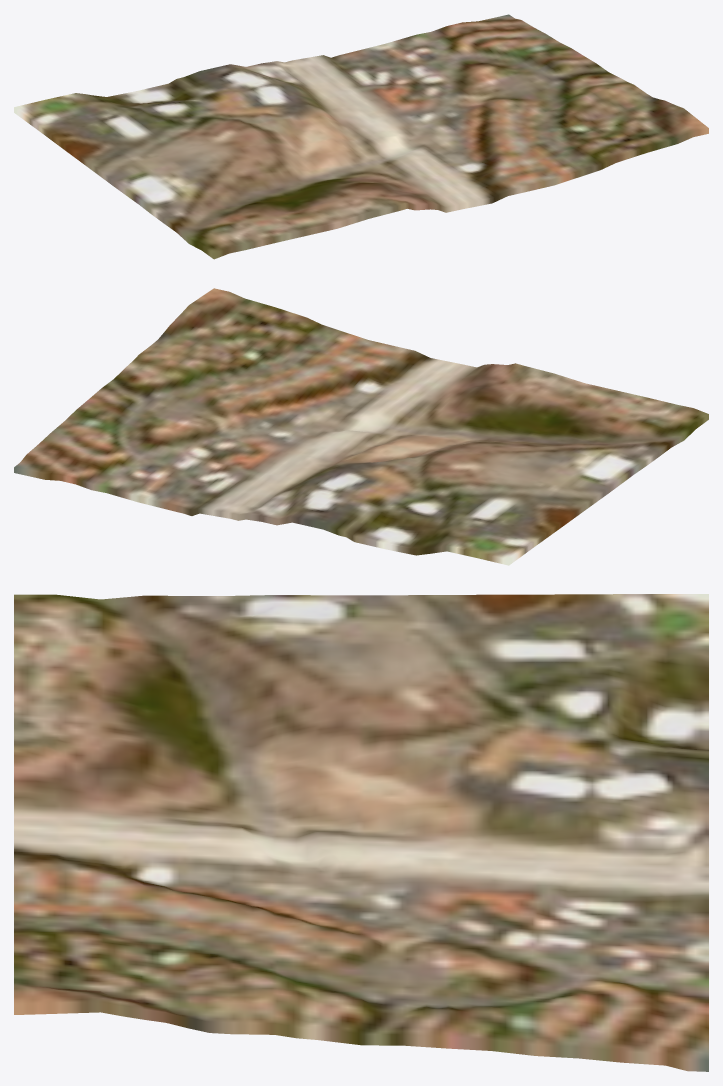
Rendered from terrain_r4_c7_lod2.glb.
3 views of the same model, one above another, from view 1: azimuth 30°, elevation 25°; view 2: azimuth 150°, elevation 25°; view 3: azimuth 270°, elevation 25° (orthographic). The views are drawn at different scales.
Visible parts, largest first — view 1: terrain_r4_c7_lod2; view 2: terrain_r4_c7_lod2; view 3: terrain_r4_c7_lod2.
Part boxes in pixels (<box>): terrain_r4_c7_lod2: <box>14,14,708,259</box>; terrain_r4_c7_lod2: <box>14,288,708,565</box>; terrain_r4_c7_lod2: <box>14,594,708,1071</box>.
Size of the model in its own units: 1125 by 86.32 by 787.
1 material, 1 textured.
